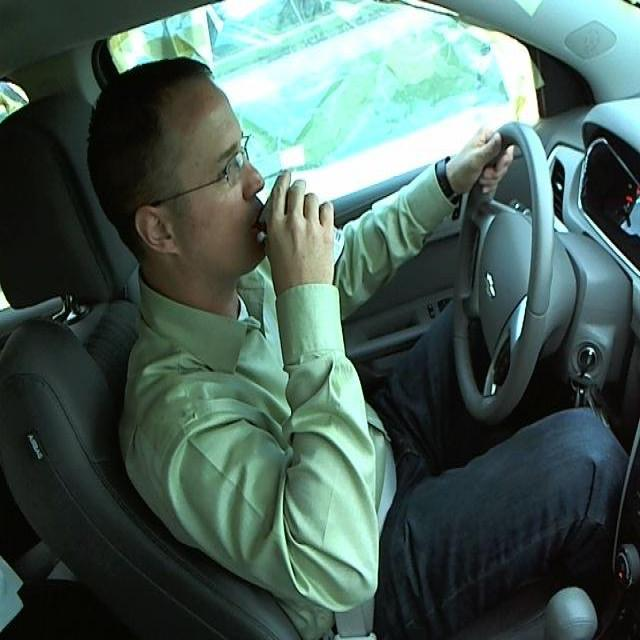drinking: (255, 176, 349, 283)
